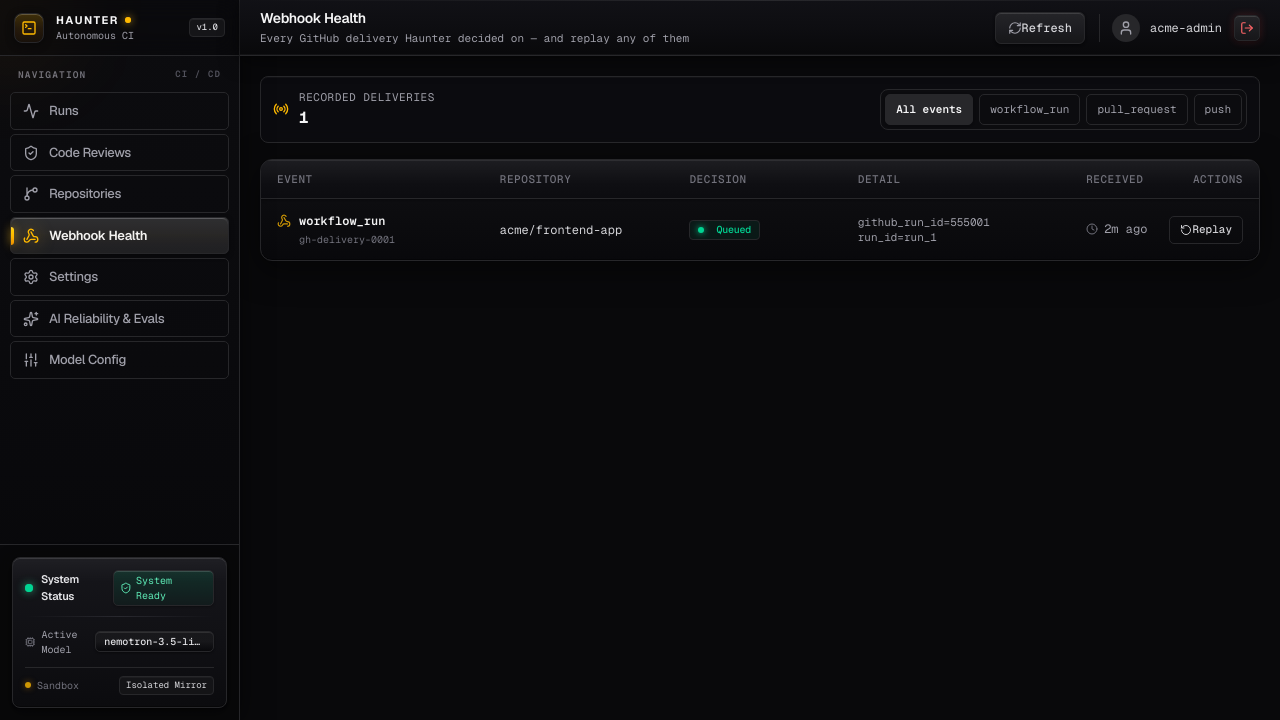
Test: WebhooksPage (app/webhooks/page.tsx) › surfaces a failed replay without dropping the row
Check: the text "gh-delivery-0001" is shown, box [299, 233, 395, 246]
Click the button "Replay": coordinates (1206, 230) [1169, 216, 1243, 244]
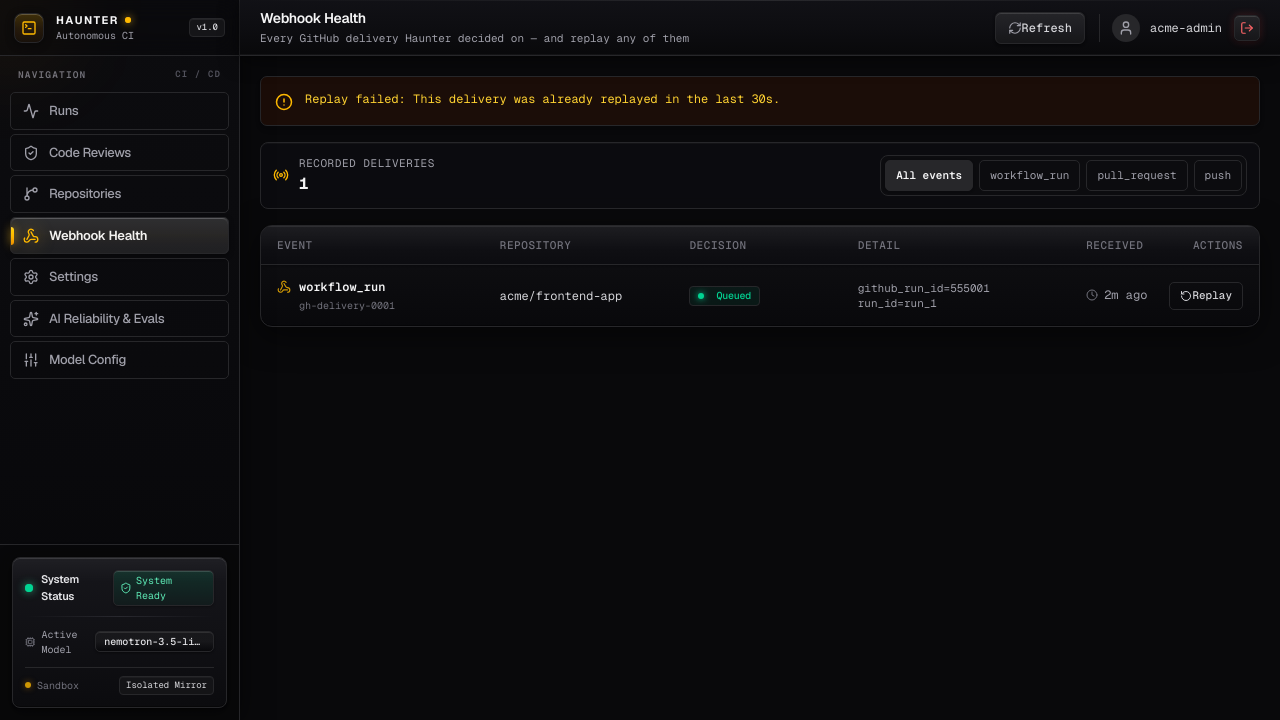
Check: the text "gh-delivery-0001" is shown, box [299, 299, 395, 312]
Check: the text "Replay failed: This delivery was already replayed in the last 30s." is shown, box [305, 91, 780, 107]
